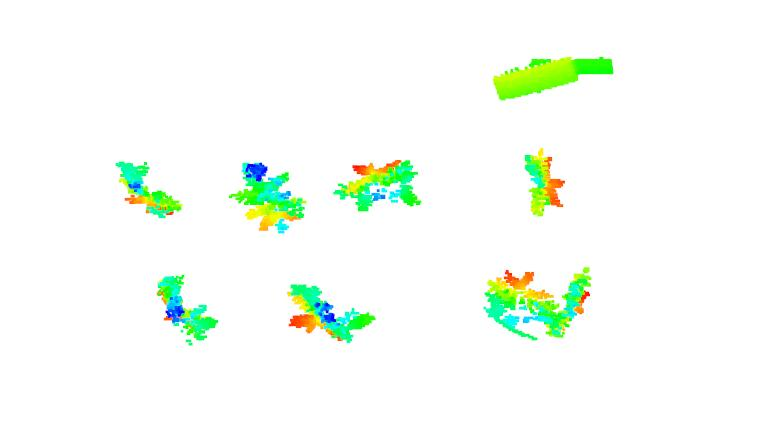chickpea: (227, 159, 309, 237), (328, 154, 427, 216), (286, 280, 377, 345), (484, 268, 553, 343), (154, 270, 216, 347), (110, 157, 183, 221), (520, 145, 567, 219), (551, 260, 594, 340)
